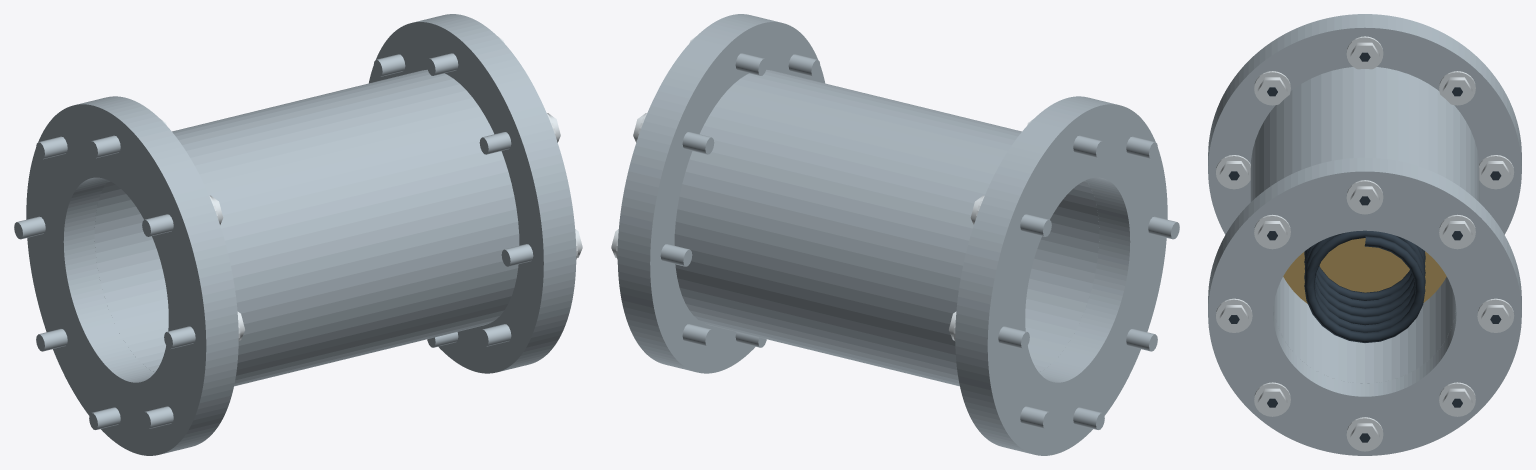
Rendered from check.glb.
3 views of the same model, side by side, from view 1: azimuth 30°, elevation 25°; view 2: azimuth 150°, elevation 25°; view 3: azimuth 270°, elevation 25° (orthographic). The views are drawn at different scales.
Visible parts, largest first — view 1: Thân van; view 2: Thân van; view 3: Thân van, Lò xo hồi van một chiều, Đĩa một chiều.
Part boxes in pixels (bbox=[...]): Thân van: bbox=[14, 14, 582, 455]; Thân van: bbox=[611, 14, 1179, 455]; Thân van: bbox=[1208, 14, 1521, 455]; Lò xo hồi van một chiều: bbox=[1304, 230, 1425, 342]; Đĩa một chiều: bbox=[1283, 238, 1446, 303].
Size of the model in its own units: 1.25 by 0.96 by 0.96.
